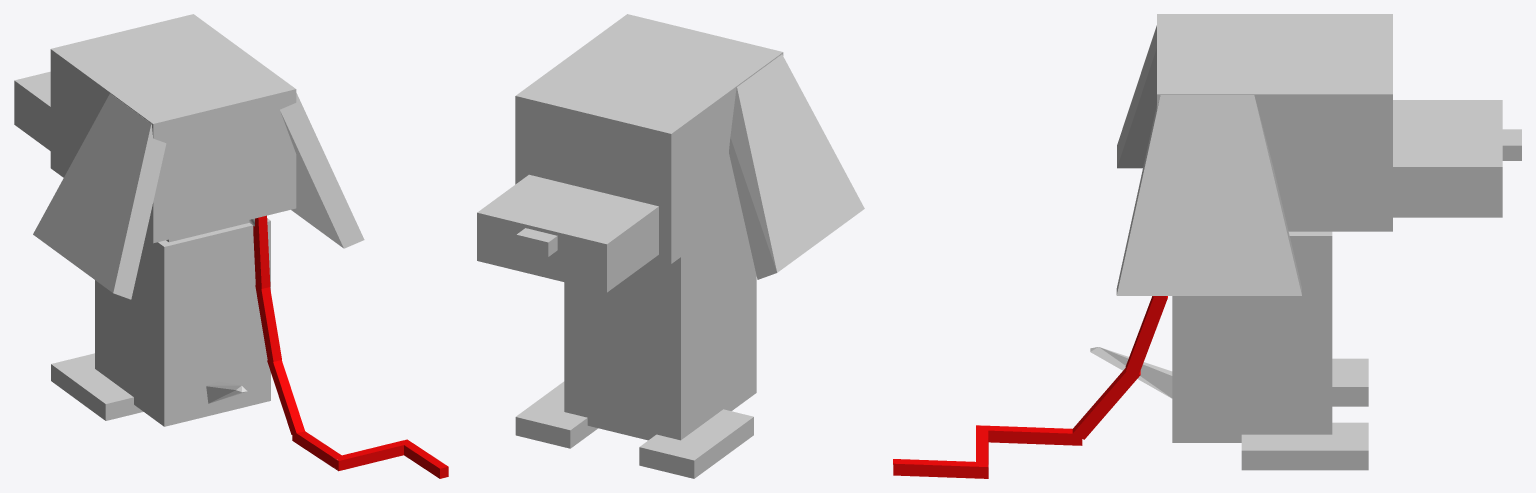
Rendered from dog-leashedV3.dae.
3 views of the same model, side by side, from view 1: azimuth 30°, elevation 25°; view 2: azimuth 150°, elevation 25°; view 3: azimuth 270°, elevation 25° (orthographic). The views are drawn at different scales.
Parts seen in each view (by area): view 1: Cube, Cube-003, Cube-002, Cube-005, Cube-001, Cube-004, Cube-006; view 2: Cube; view 3: Cube, Cube-004, Cube-006, Cube-003, Cube-002.
Part boxes in pixels (x1,y1,x2,y2): Cube: (14,14,364,426); Cube-003: (267,359,304,434); Cube-002: (255,285,281,361); Cube-005: (333,441,403,471); Cube-001: (253,215,270,288); Cube-004: (399,439,448,478); Cube-006: (292,431,341,467); Cube: (477,14,864,478); Cube: (1090,14,1521,470); Cube-004: (893,459,988,478); Cube-006: (988,425,1082,445); Cube-003: (1072,368,1140,439); Cube-002: (1125,296,1167,373).
Size of the model in its own units: 2.91 by 3.56 by 5.48.
